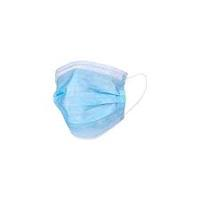flu mask: (52, 56, 135, 139)
